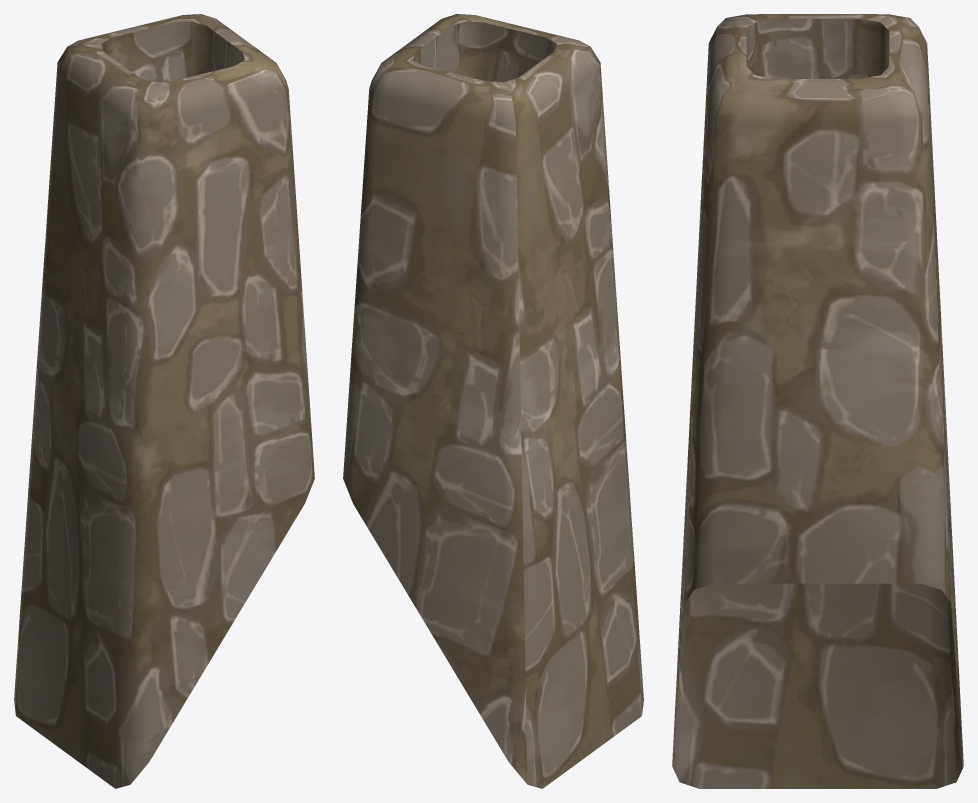
The model's file is chimney_2.glb.
3 renders of one model, left to right at view 1: azimuth 30°, elevation 25°; view 2: azimuth 150°, elevation 25°; view 3: azimuth 270°, elevation 25°, orthographic. The views are drawn at different scales.
Visible parts, largest first — view 1: Prop_Chimney2; view 2: Prop_Chimney2; view 3: Prop_Chimney2.
Boxes of the visible parts, x1,y1,x2,y2 form: Prop_Chimney2: (14,14,314,788); Prop_Chimney2: (343,14,643,788); Prop_Chimney2: (672,14,963,788).
Bounding box in the file's own units: 0.9457 × 3 × 0.9882.
1 material, 1 textured.
